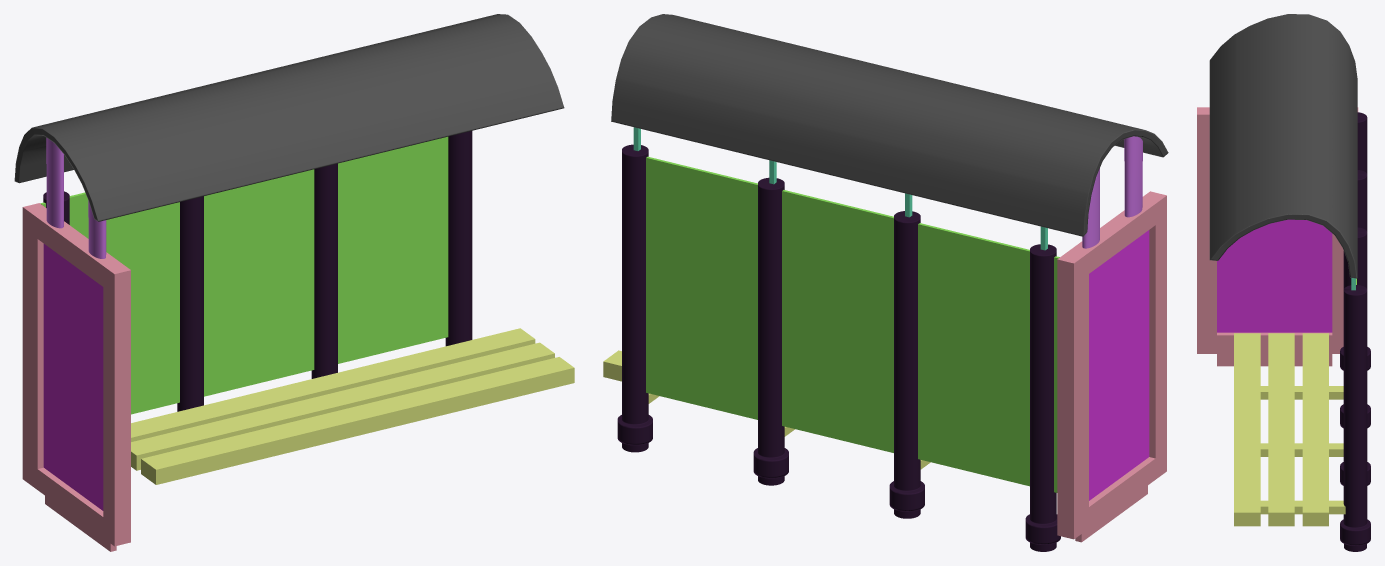
The model's file is Pensilina.fbx.
The picture shows the model from 3 angles, left to right: view 1: azimuth 30°, elevation 25°; view 2: azimuth 150°, elevation 25°; view 3: azimuth 270°, elevation 25°; orthographic projection. The views are drawn at different scales.
Visible parts, largest first — view 1: Panchina; view 2: Panchina; view 3: Panchina.
Boxes of the visible parts, x1,y1,x2,y2 form: Panchina: [14, 14, 574, 551]; Panchina: [603, 14, 1168, 551]; Panchina: [1197, 14, 1370, 551].
Size of the model in its own units: 239 by 182 by 83.56.
